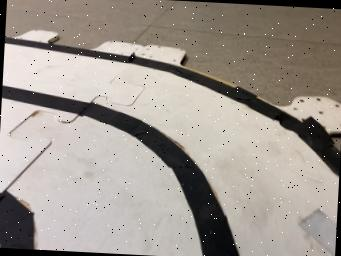street: (0, 36, 340, 256), (0, 36, 340, 256), (0, 36, 340, 256)
